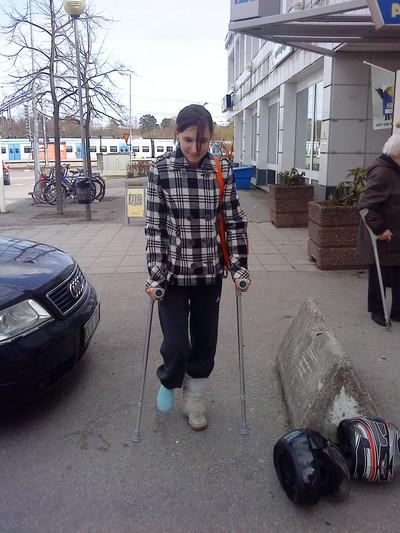crutches: (131, 104, 253, 443), (358, 133, 400, 330)
